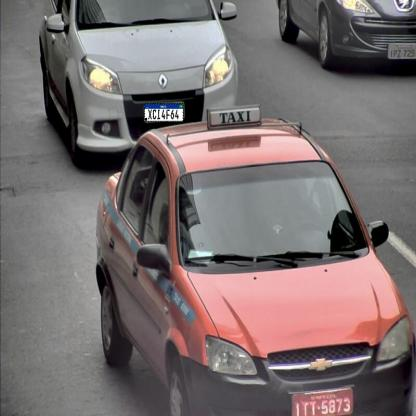PlacaM: (144, 103, 184, 122)
